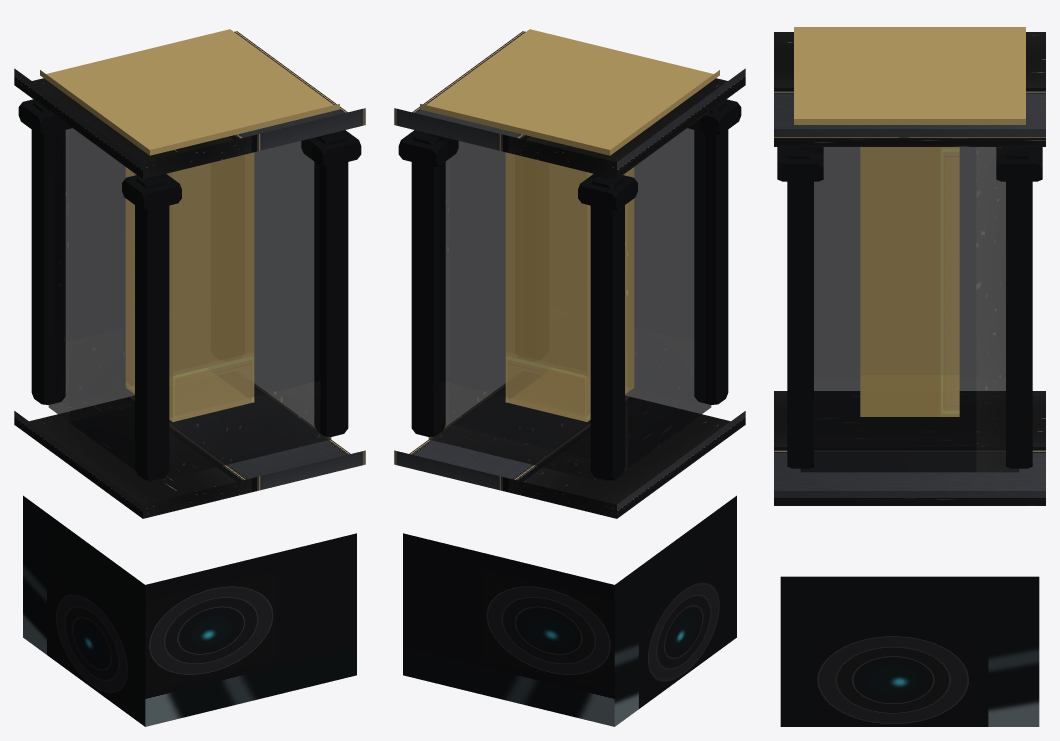
Rendered from room_l3_img2_preservation_case.glb.
3 renders of one model, left to right at view 1: azimuth 30°, elevation 25°; view 2: azimuth 150°, elevation 25°; view 3: azimuth 270°, elevation 25°, orthographic. The views are drawn at different scales.
Visible parts, largest first — view 1: glass_column, case_base, specimen_glow, base_cap, dust_film, clamp_1, clamp_0, clamp_3, top_cap, clamp_head_1, clamp_head_0, clamp_head_3; view 2: glass_column, case_base, specimen_glow, base_cap, dust_film, clamp_3, clamp_2, clamp_1, top_cap, clamp_head_3, clamp_head_2, clamp_head_1; view 3: glass_column, case_base, specimen_glow, base_cap, dust_film, top_cap, clamp_0, clamp_2, clamp_head_0, clamp_head_2.
Part boxes in pixels (x1=…): glass_column: x1=48, y1=119, x2=331, y2=482; case_base: x1=23, y1=495, x2=356, y2=726; specimen_glow: x1=126, y1=152, x2=253, y2=421; base_cap: x1=14, y1=384, x2=365, y2=518; dust_film: x1=40, y1=29, x2=339, y2=155; clamp_1: x1=135, y1=175, x2=169, y2=480; clamp_0: x1=314, y1=131, x2=348, y2=436; clamp_3: x1=31, y1=101, x2=65, y2=404; top_cap: x1=14, y1=31, x2=365, y2=179; clamp_head_1: x1=122, y1=174, x2=181, y2=210; clamp_head_0: x1=301, y1=130, x2=361, y2=166; clamp_head_3: x1=18, y1=99, x2=71, y2=134; glass_column: x1=428, y1=119, x2=711, y2=482; case_base: x1=403, y1=495, x2=736, y2=726; specimen_glow: x1=506, y1=152, x2=633, y2=421; base_cap: x1=394, y1=384, x2=745, y2=518; dust_film: x1=420, y1=29, x2=719, y2=155; clamp_3: x1=590, y1=175, x2=624, y2=480; clamp_2: x1=411, y1=131, x2=445, y2=436; clamp_1: x1=694, y1=101, x2=728, y2=404; top_cap: x1=394, y1=31, x2=745, y2=179; clamp_head_3: x1=578, y1=174, x2=637, y2=210; clamp_head_2: x1=398, y1=130, x2=458, y2=166; clamp_head_1: x1=688, y1=99, x2=741, y2=134; glass_column: x1=800, y1=147, x2=1019, y2=472; case_base: x1=780, y1=576, x2=1039, y2=726; specimen_glow: x1=860, y1=147, x2=959, y2=416; base_cap: x1=774, y1=391, x2=1045, y2=505; dust_film: x1=794, y1=27, x2=1025, y2=124; top_cap: x1=774, y1=32, x2=1045, y2=146; clamp_0: x1=787, y1=147, x2=813, y2=468; clamp_2: x1=1006, y1=147, x2=1032, y2=468; clamp_head_0: x1=777, y1=147, x2=823, y2=181; clamp_head_2: x1=996, y1=147, x2=1042, y2=181.
Bounding box in the file's own units: 0.82 × 2 × 0.82.
5 materials, 5 textured.
